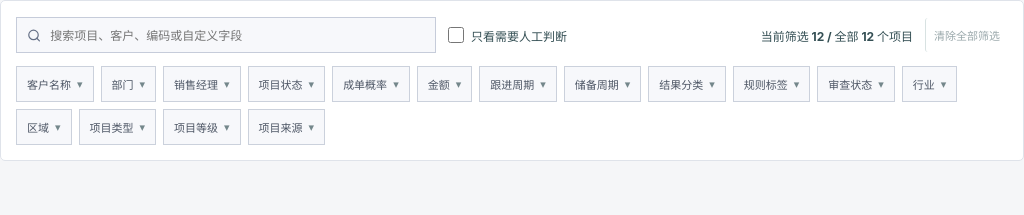
AnalysisFilters › provides a one-click manual-review-only filter
Click the checkbox labelled "只看需要人工判断": {"x": 456, "y": 35} [448,27,464,43]
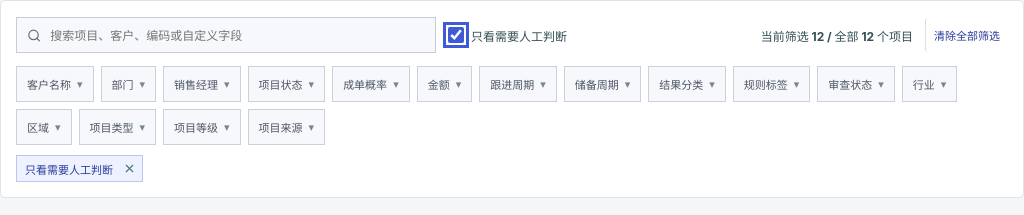
Now the checkbox labelled "只看需要人工判断" is checked
Now the button named "移除筛选：只看需要人工判断" is shown, box [117,156,142,181]
Click the checkbox labelled "只看需要人工判断": {"x": 456, "y": 35} [448,27,464,43]
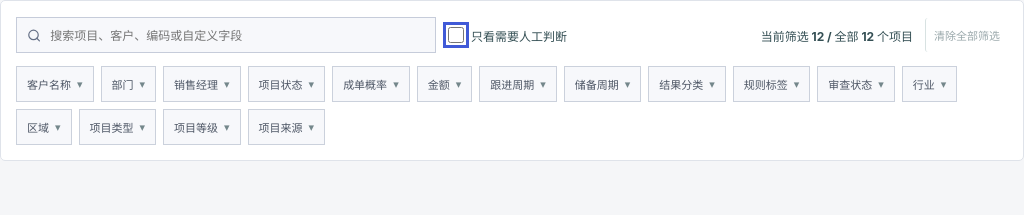
Now the checkbox labelled "只看需要人工判断" is not checked, box [448,27,464,43]
Now the button "移除筛选：只看需要人工判断" is gone
